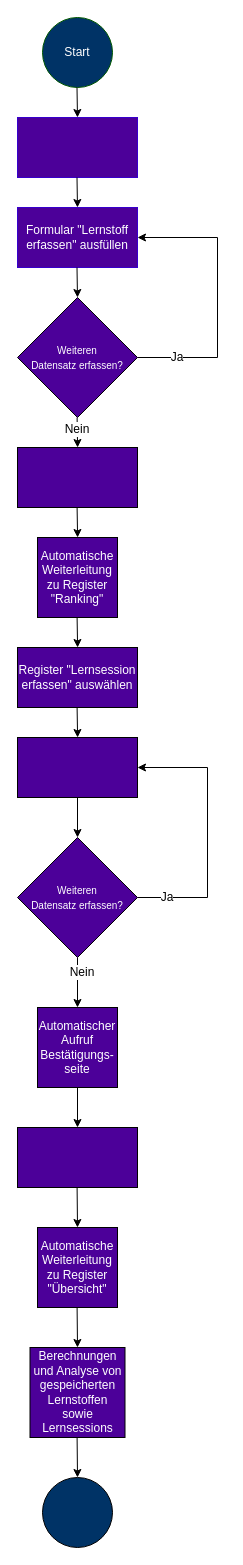
The diagram is 243 pixels wide and 1565 high, and some of its shapes have lost their labels. The shapes that lost their labels are listed below. From the top down, each one's centre as x and y in pixels, then its label:
pixel 77 147: Register "Lernstoff erfassen" auswählen
pixel 77 477: Button "Speicher" klicken
pixel 77 767: Formular "Lernsession erfassen" ausfüllen
pixel 77 1157: Button "Weiter" klicken
pixel 77 1512: Ende
